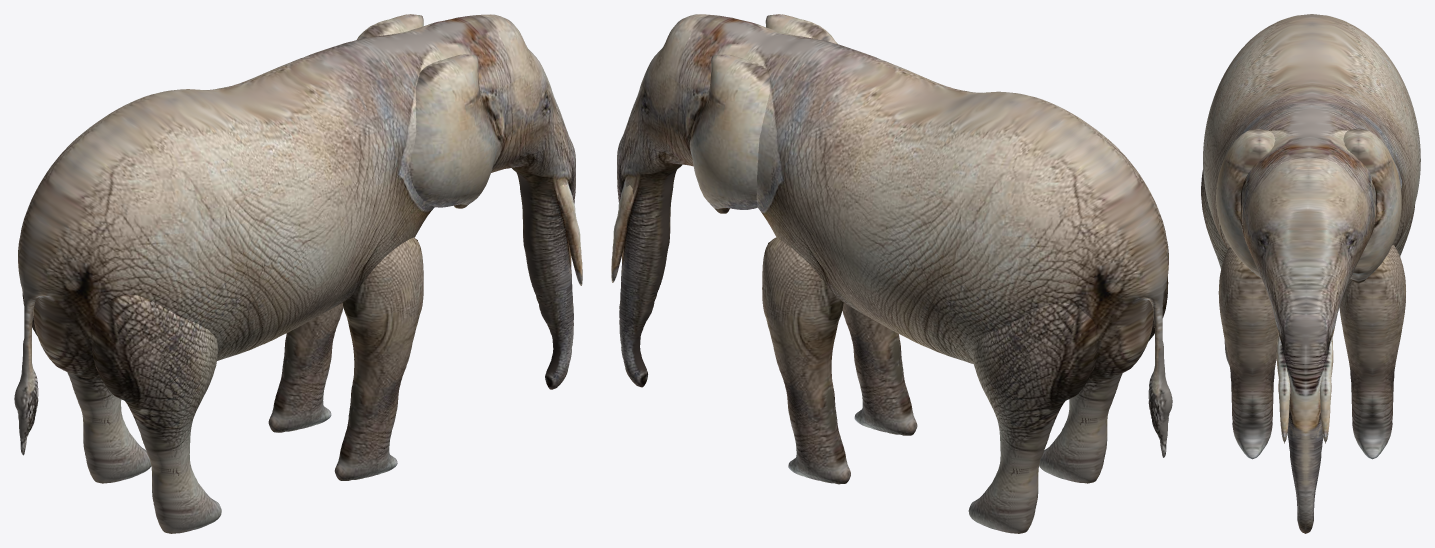
Rendered from african-elephant.glb.
3 renders of one model, left to right at view 1: azimuth 30°, elevation 25°; view 2: azimuth 150°, elevation 25°; view 3: azimuth 270°, elevation 25°, orthographic. The views are drawn at different scales.
Parts seen in each view (by area): view 1: mm_frame (2); view 2: mm_frame (2); view 3: mm_frame (2).
Boxes of the visible parts, box(x1,y1,x2,y2) form: mm_frame (2): box(14, 14, 582, 533); mm_frame (2): box(611, 14, 1172, 533); mm_frame (2): box(1201, 14, 1420, 533).
Bounding box in the file's own units: 8.68 × 6.06 × 3.29.
Materials: 1 (1 with a texture image).
